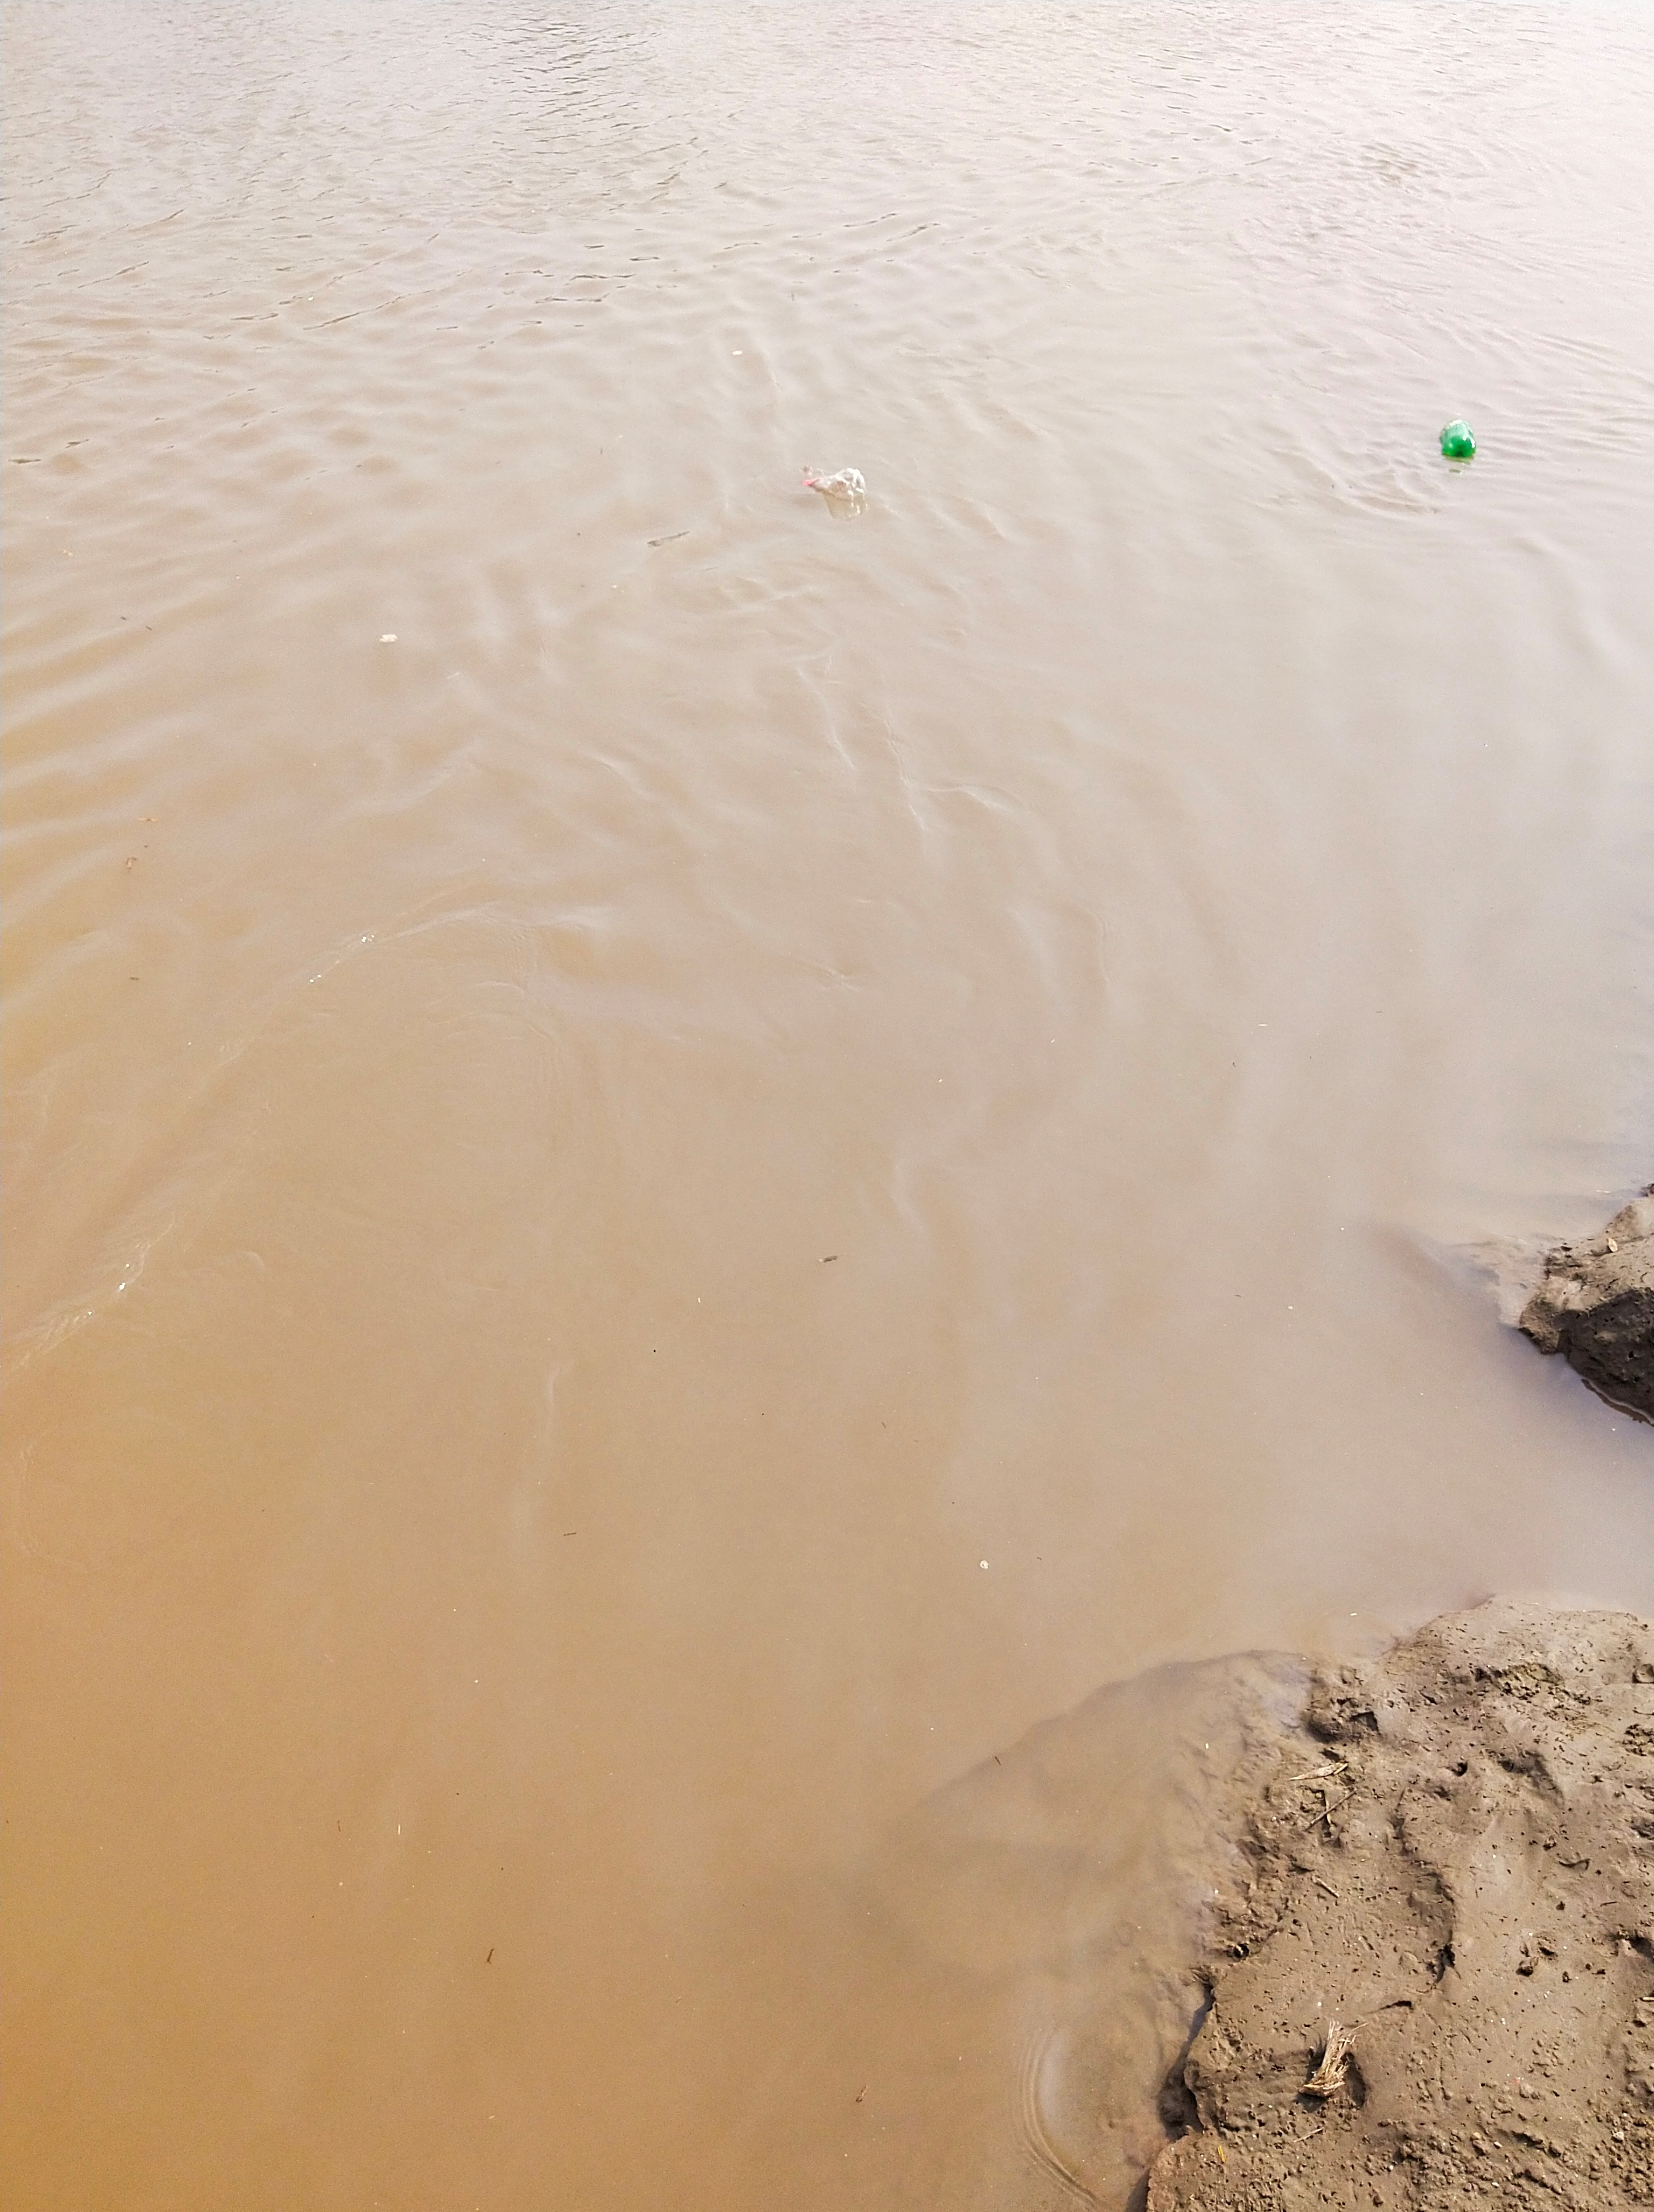Plastic Bottle: (803, 466, 867, 499), (1440, 419, 1475, 457)
